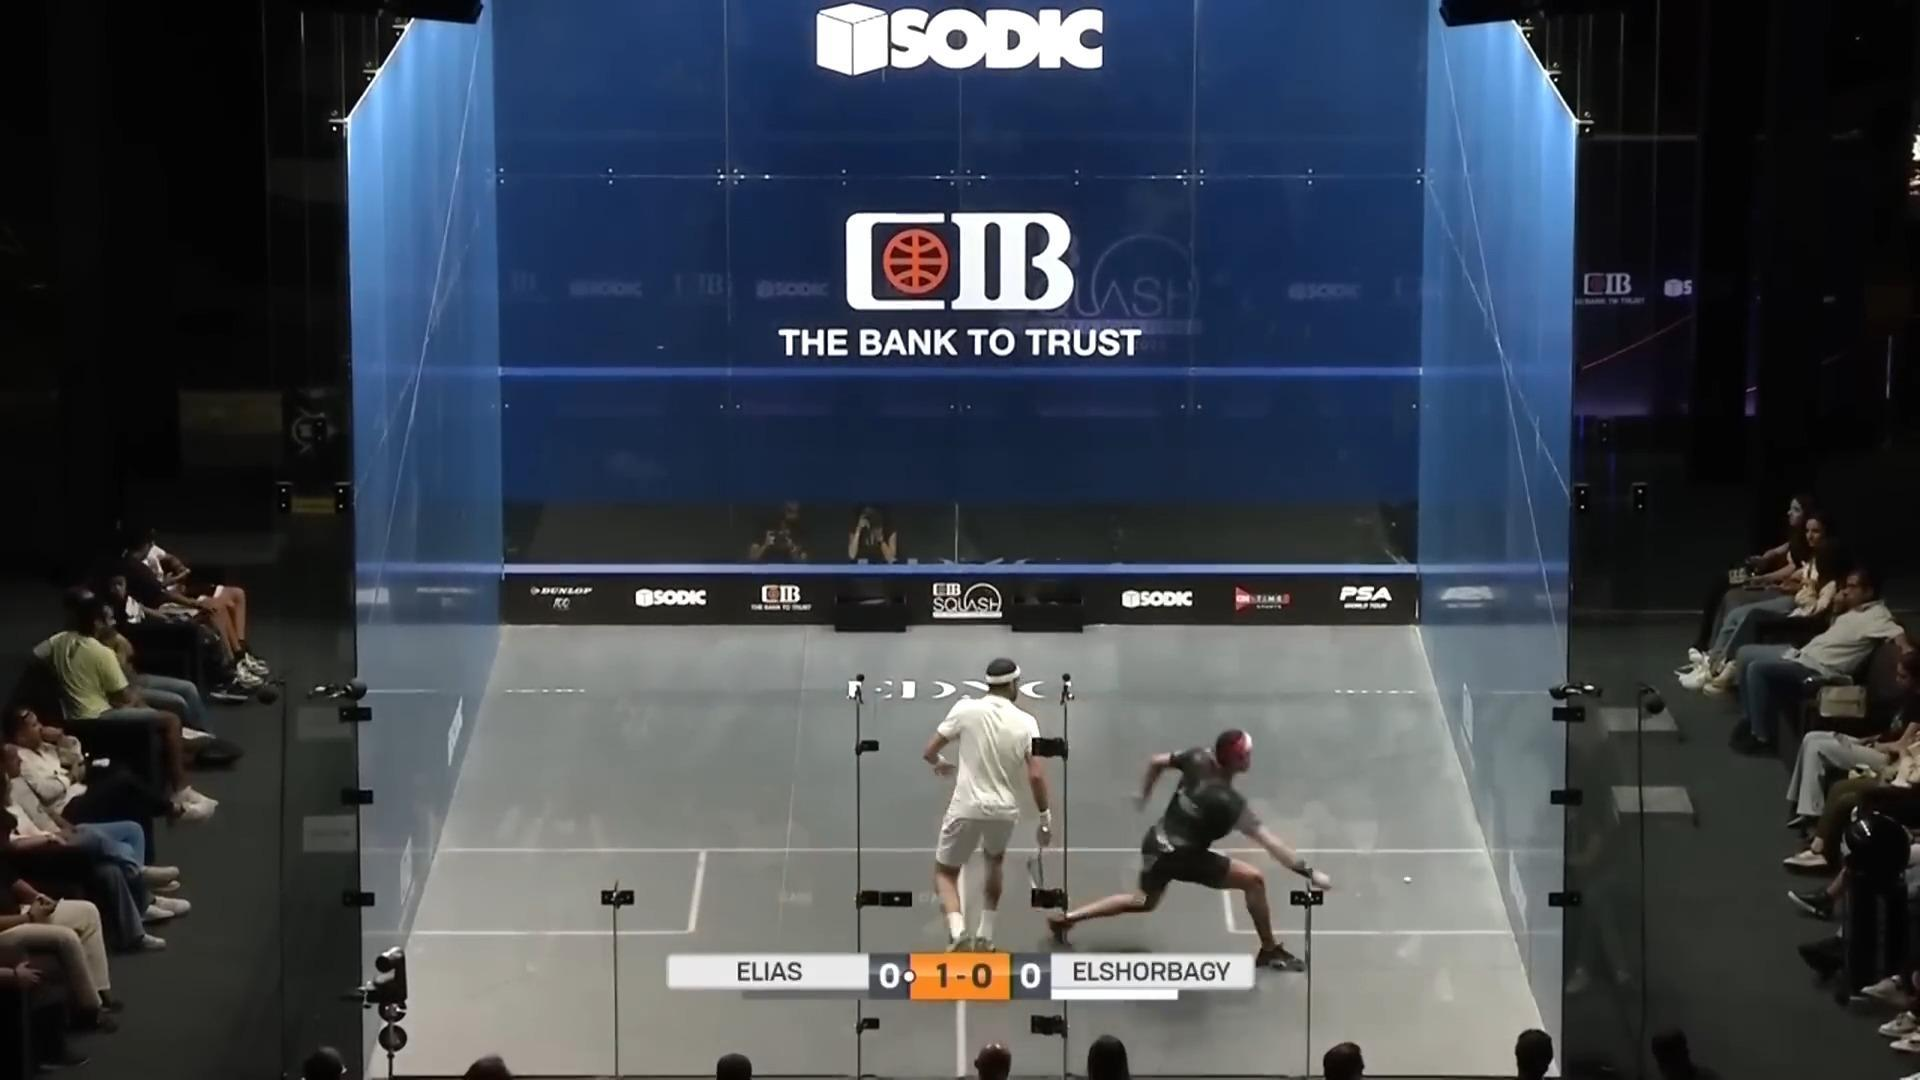Squash-Ball: (1395, 866, 1420, 891)
